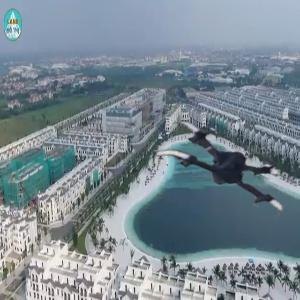drone: (150, 110, 288, 248)
